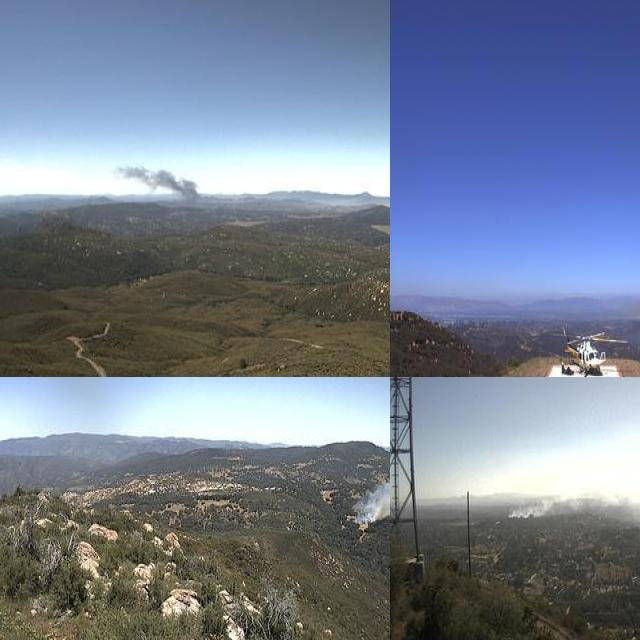smoke: (506, 463, 640, 543), (115, 157, 204, 206), (351, 462, 390, 540)
